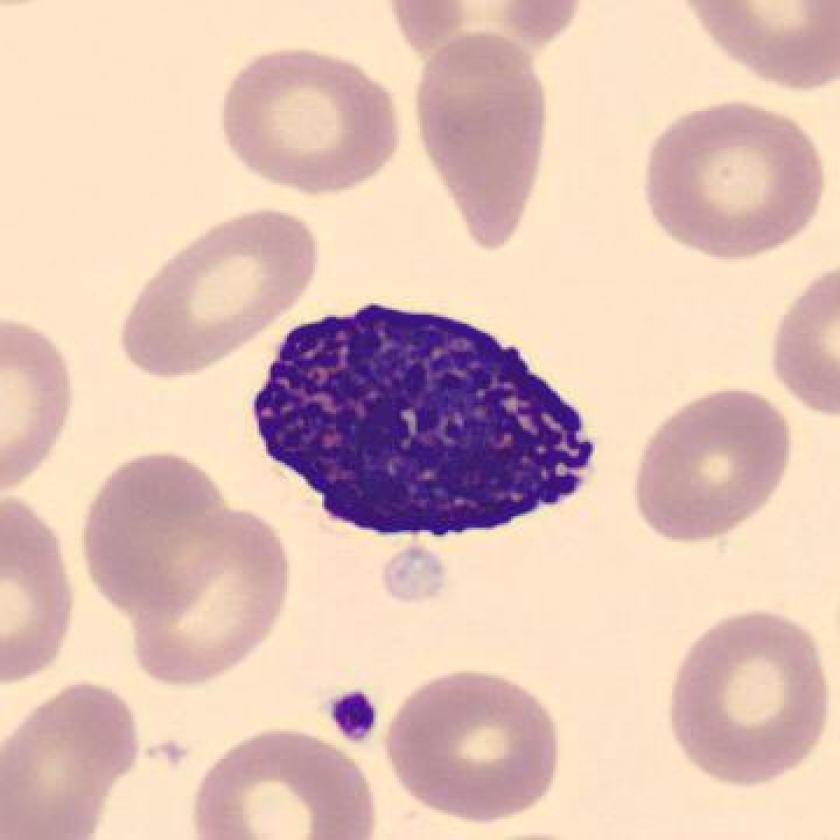basophil: (248, 297, 601, 547)
